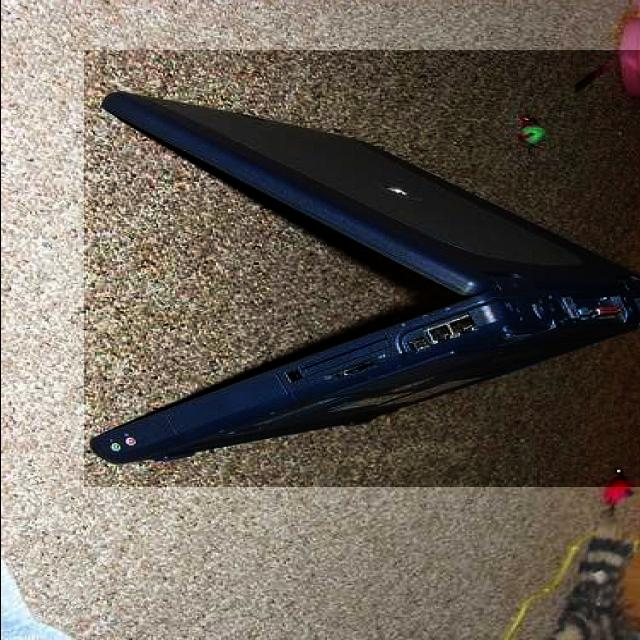-keyboard-: (84, 50, 640, 487)
